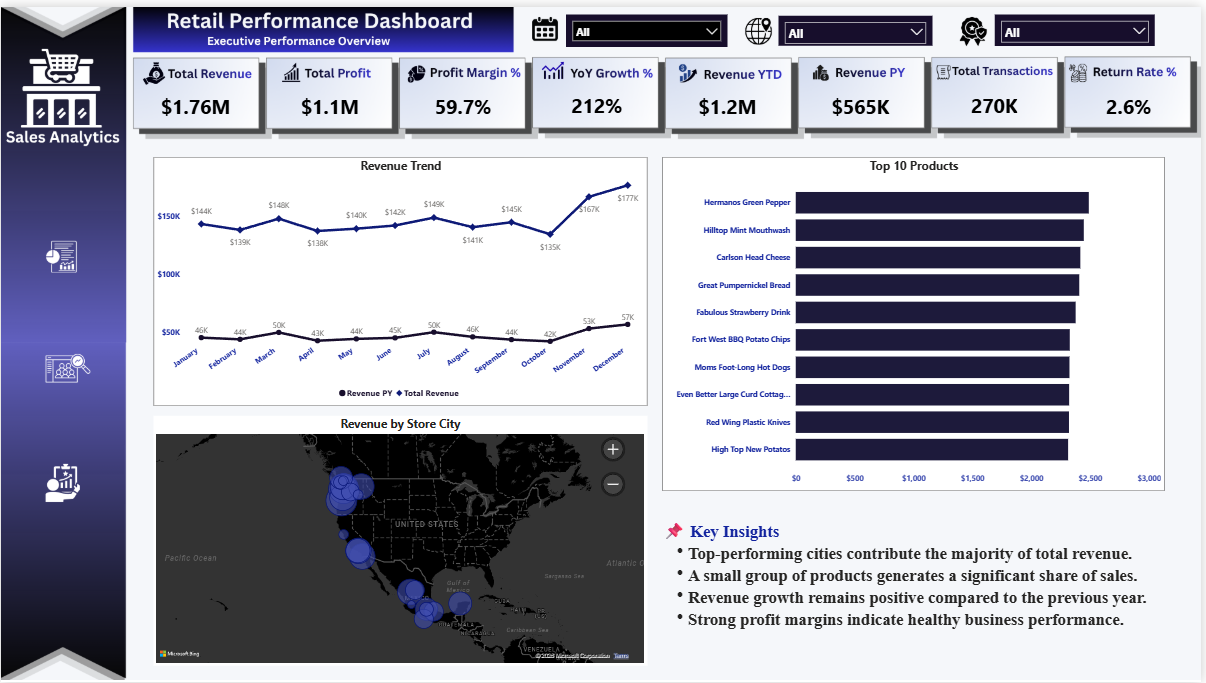

What the dashboard file says about the page in this screenshot:
{"tool":"powerbi","page":{"name":"EXECUTIVE SUMMARY","canvas":[1920,1080],"ordinal":0},"visuals":[{"type":"cardVisual","fields":{"Data":["Stores.Total Revenue"]},"box":[212,126,198,62],"z":0},{"type":"cardVisual","fields":{"Data":["Calender.Profit"]},"box":[430,126,192,62],"z":1000},{"type":"cardVisual","fields":{"Data":["Calender.Profit Margin %"]},"box":[640,126,198,62],"z":2000},{"type":"cardVisual","fields":{"Data":["Calender.YoY Growth %"]},"box":[852,126,202,60],"z":3000},{"type":"cardVisual","fields":{"Data":["Calender.Return Rate %"]},"box":[1704,126,200,62],"z":4000},{"type":"cardVisual","fields":{"Data":["Calender.Total Transactions"]},"box":[1490,124,198,62],"z":5000},{"type":"cardVisual","fields":{"Data":["Calender.Revenue YTD"]},"box":[1058,126,208,62],"z":6000},{"type":"cardVisual","fields":{"Data":["Calender.Revenue PY"]},"box":[1280,126,190,62],"z":7000},{"type":"slicer","fields":{"Values":["Calender.date"]},"box":[904,12,258,52],"z":8000},{"type":"slicer","fields":{"Values":["Stores.store_country"]},"box":[1244,14,246,48],"z":9000},{"type":"slicer","fields":{"Values":["Products.product_brand"]},"box":[1590,12,256,50],"z":10000},{"type":"lineChart","title":"Revenue Trend","fields":{"Category":["Calender.Month Name"],"Y":["Calender.Revenue PY","Stores.Total Revenue"]},"box":[244,240,790,398],"z":11000},{"type":"map","title":"Revenue by Store City","fields":{"Category":["Stores.Store Location"],"Size":["Stores.Total Revenue"]},"box":[244,654,790,400],"z":12000},{"type":"clusteredBarChart","title":"Top 10 Products","fields":{"Y":["Stores.Total Revenue"],"Category":["Products.product_name"]},"box":[1058,240,804,534],"z":13000},{"type":"textbox","box":[1054,814,832,240],"z":14000}]}

Visuals, with their boxes on the page's 1920x1080 design canvas (x1, y1, x2, y2). These are canvas units, not pixel positions in the 1206x683 screenshot, which may show the page scaled, cropped or inside an application window:
cardVisual - Stores.Total Revenue: detection(212, 126, 410, 188)
cardVisual - Calender.Profit: detection(430, 126, 622, 188)
cardVisual - Calender.Profit Margin %: detection(640, 126, 838, 188)
cardVisual - Calender.YoY Growth %: detection(852, 126, 1054, 186)
cardVisual - Calender.Return Rate %: detection(1704, 126, 1904, 188)
cardVisual - Calender.Total Transactions: detection(1490, 124, 1688, 186)
cardVisual - Calender.Revenue YTD: detection(1058, 126, 1266, 188)
cardVisual - Calender.Revenue PY: detection(1280, 126, 1470, 188)
slicer - Calender.date: detection(904, 12, 1162, 64)
slicer - Stores.store_country: detection(1244, 14, 1490, 62)
slicer - Products.product_brand: detection(1590, 12, 1846, 62)
"Revenue Trend" lineChart: detection(244, 240, 1034, 638)
"Revenue by Store City" map: detection(244, 654, 1034, 1054)
"Top 10 Products" clusteredBarChart: detection(1058, 240, 1862, 774)
textbox: detection(1054, 814, 1886, 1054)
